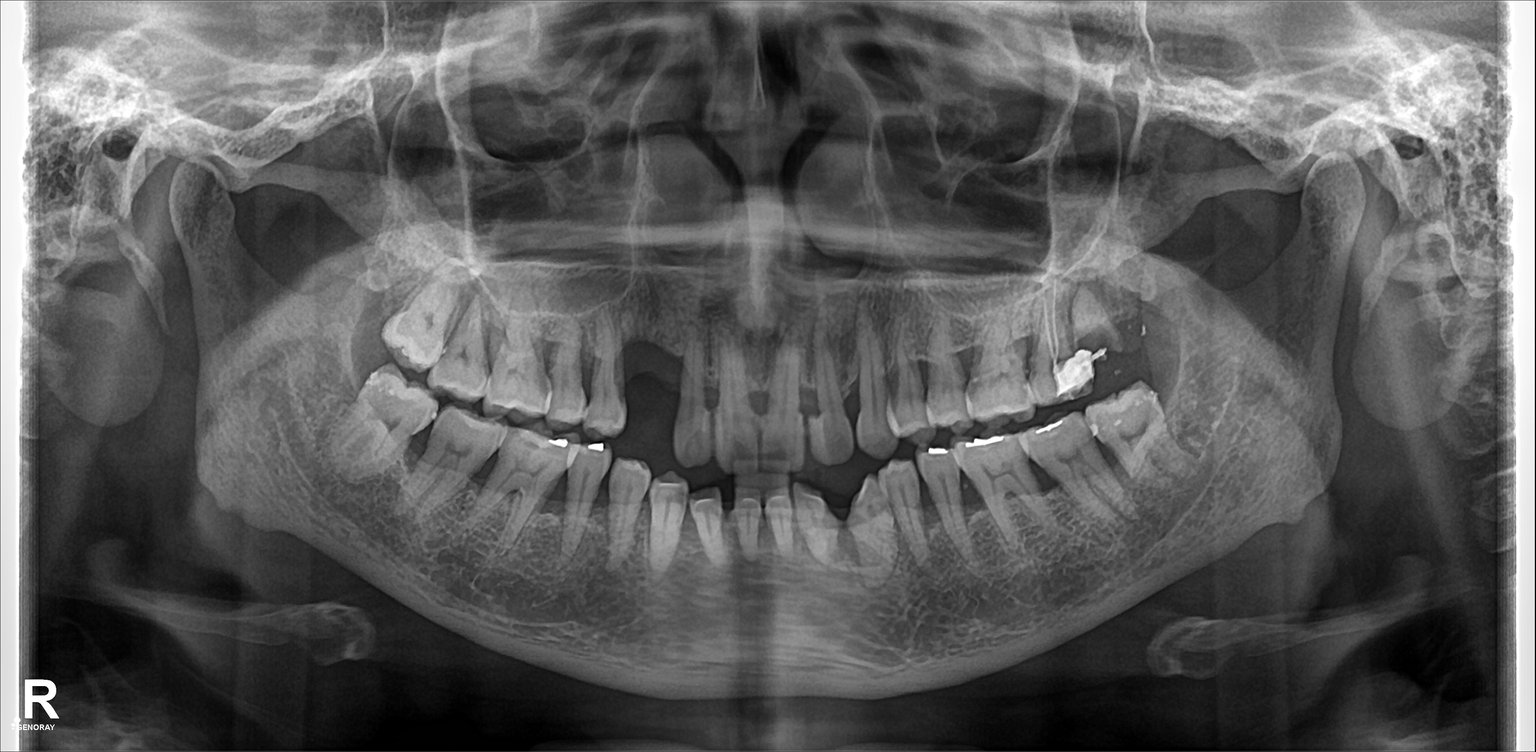Dental Caries: (1069, 324, 1123, 349)
Endodontically Treated Tooth: (1044, 300, 1099, 398)
Missing Tooth: (628, 333, 679, 447)
Retained Root: (1075, 279, 1140, 361)
